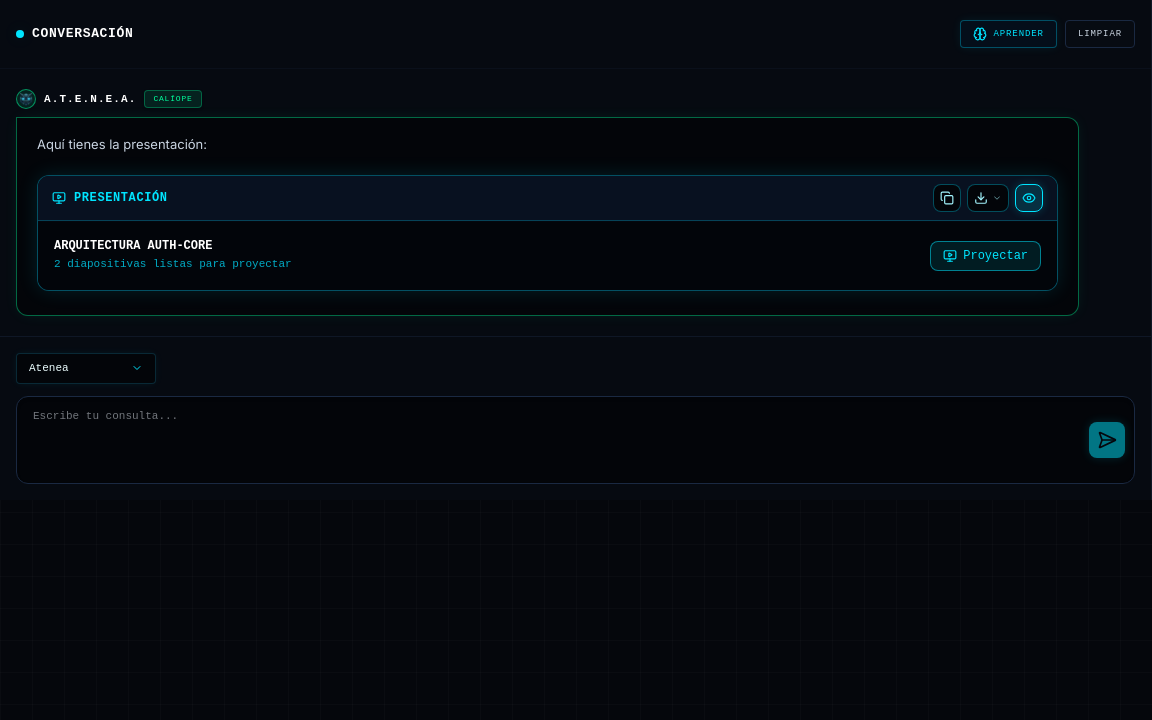
ChatPanel.vue › renders presentation card for Caliope and opens PresentationModal when clicking Ver or Proyectar
Expected: the element with test id "chat-presentation-card" is shown, [37, 175, 1058, 291]
Expected: the element with test id "chat-presentation-card" shows "Presentación", [74, 191, 168, 205]
// Click download button to open options dropdown
Click the button with test id "chat-presentation-download-btn". click: x=988, y=198
box: [967, 184, 1009, 212]
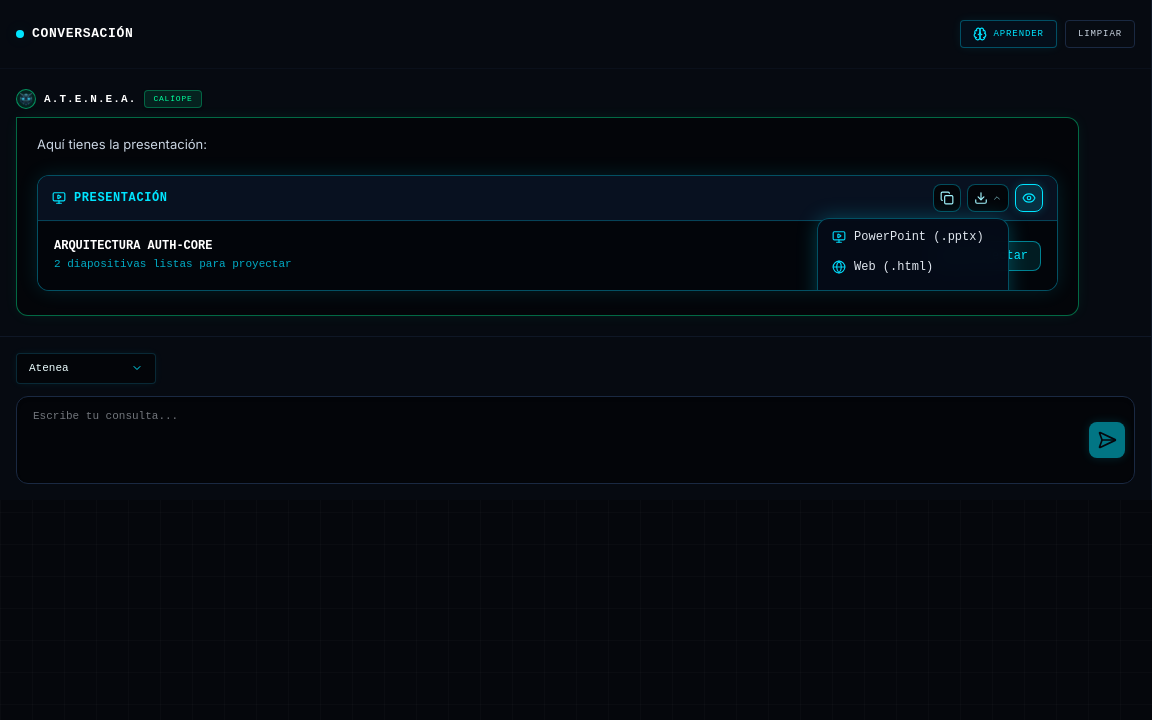
Expected: the button with test id "chat-presentation-download-pptx-btn" is shown, [822, 223, 1004, 251]
Expected: the button with test id "chat-presentation-download-html-btn" is shown, [822, 253, 1004, 281]
Click the button with test id "chat-presentation-view-btn". click: x=1029, y=198
box: [1015, 184, 1043, 212]
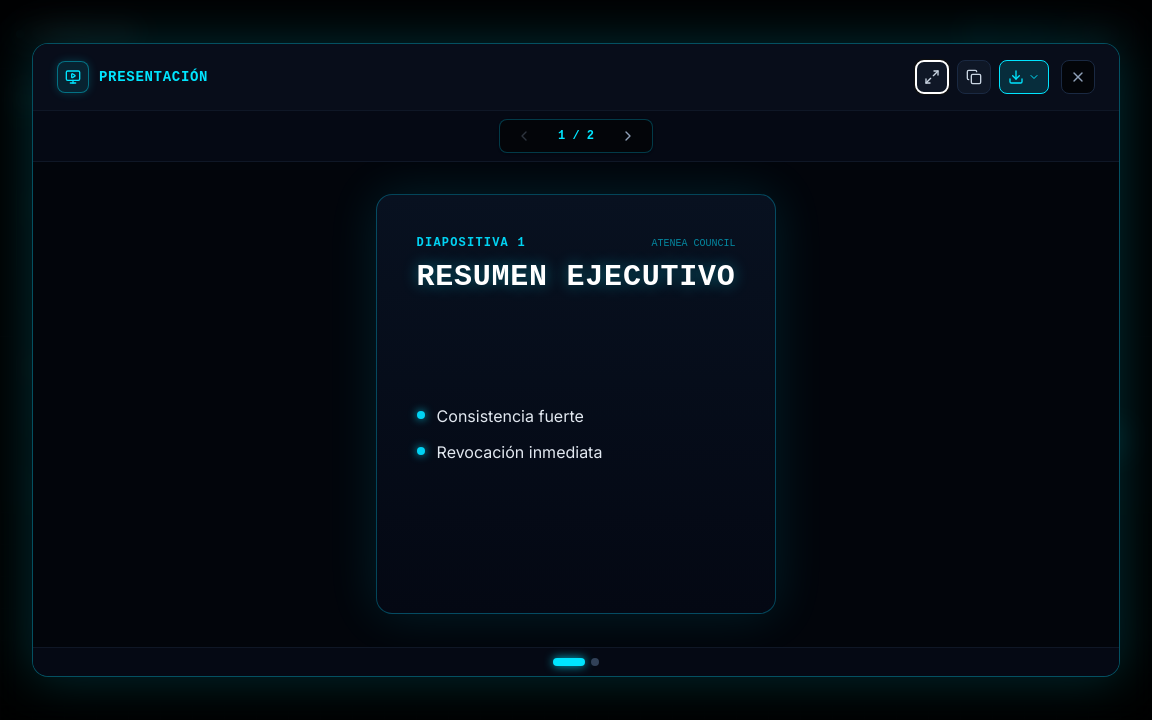
Expected: the dialog with test id "presentation-modal-backdrop" is shown
Expected: the text "Resumen Ejecutivo" is shown, [417, 259, 735, 295]
